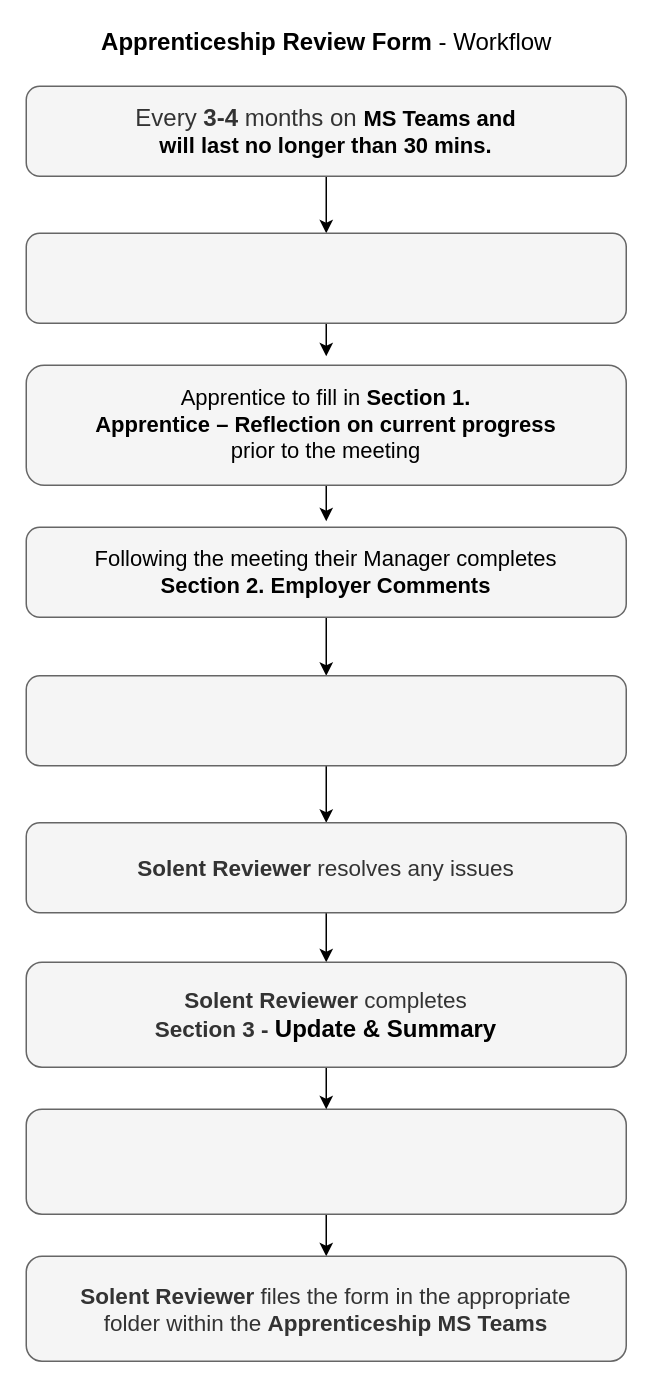
This 653x1388 diagram has some shape labels left out. The shapes that lost their labels are listed below. From the top down, each one's centre as x and y in pixels, then its label:
At [325,277]: "With Solent Reviewer, Apprentice and their Manager".
At [325,720]: "Manager sends form back to the Solent Reviewer".
At [325,1161]: "Solent Reviewer send completed form back to the apprentice and manager".
